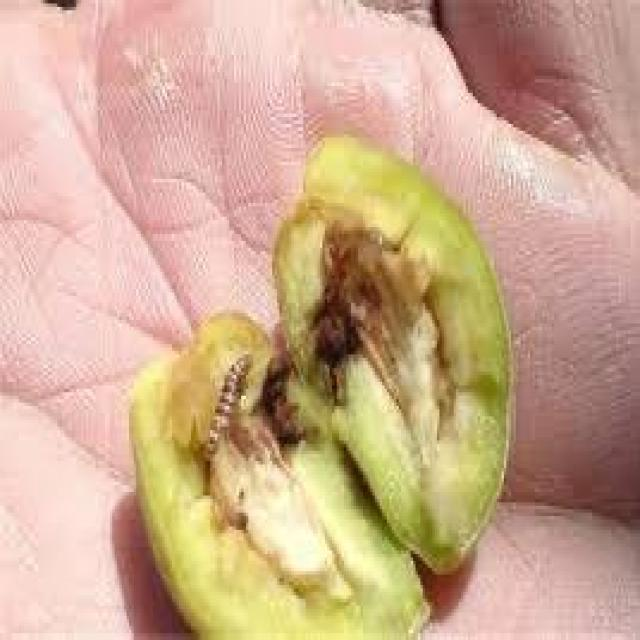Olive Fruit Fly: (131, 138, 509, 637)
